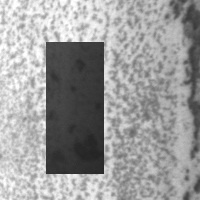patches: (170, 1, 198, 66)
pitted_surface: (1, 1, 179, 195), (46, 42, 104, 174)
